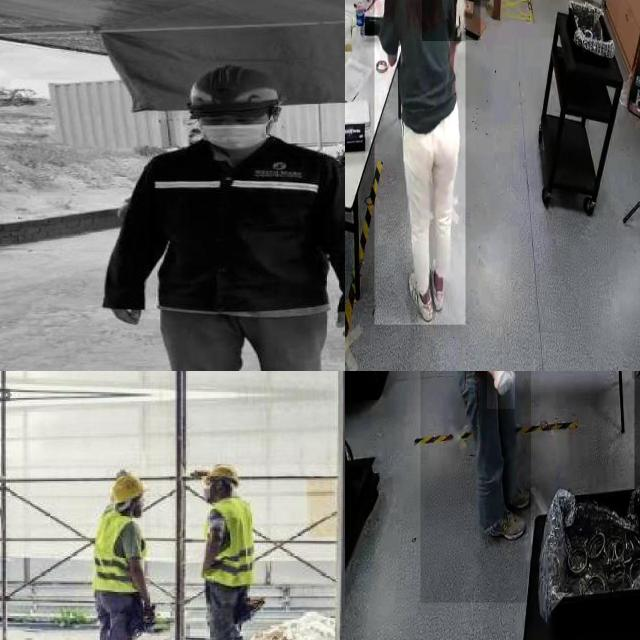No_Ear-Protection: (266, 101, 286, 133)
face_mask: (197, 120, 269, 152)
hand_glove: (486, 371, 515, 409)
hand_noglove: (100, 284, 147, 339), (332, 293, 345, 347)
head_helmet: (106, 472, 146, 504), (202, 461, 242, 486)
person: (99, 63, 345, 371), (374, 0, 465, 325), (420, 371, 531, 603), (72, 469, 160, 640), (194, 464, 262, 640)
shoes: (484, 504, 527, 543), (408, 269, 434, 323), (497, 471, 530, 509), (431, 256, 448, 313)
vest: (204, 498, 256, 590), (94, 510, 148, 594)
